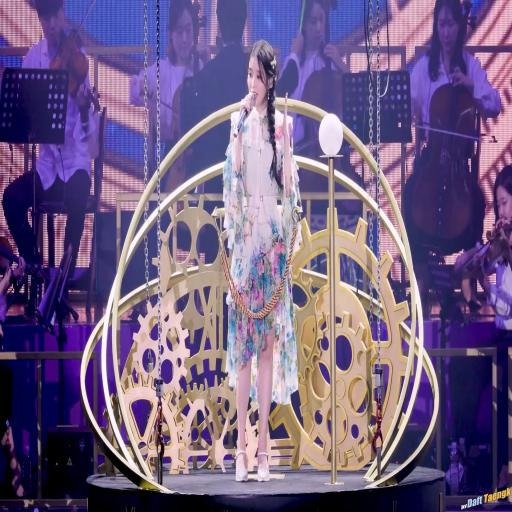IU: (247, 38, 277, 108)
